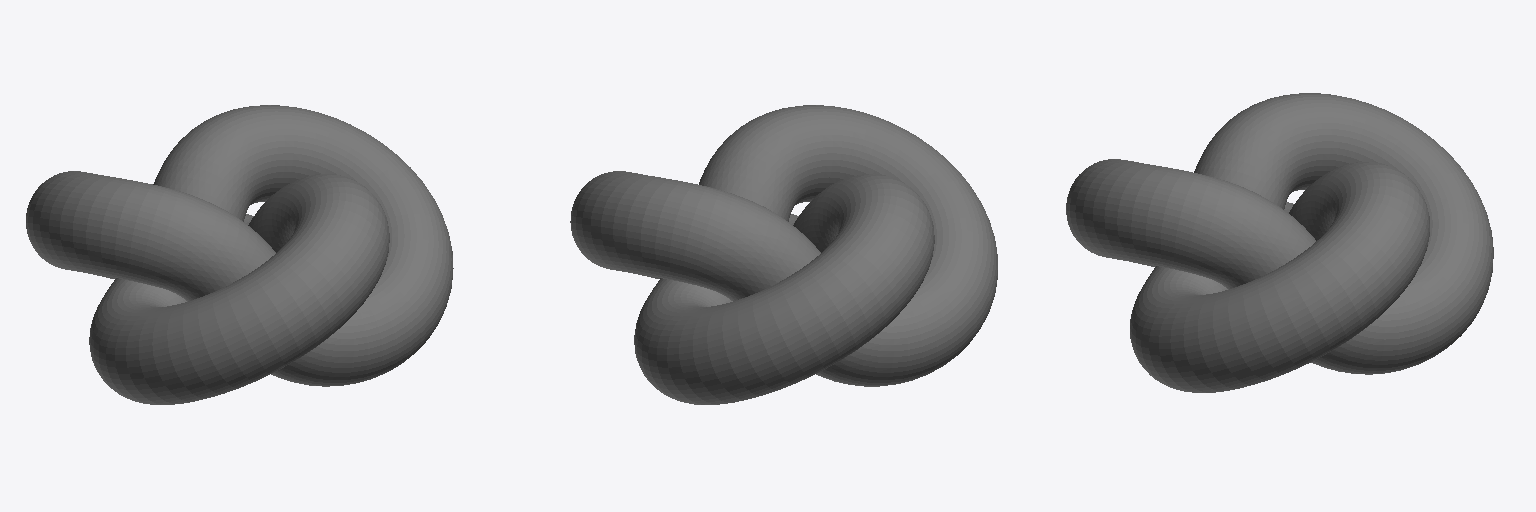
3 renders of one model, left to right at view 1: azimuth 30°, elevation 25°; view 2: azimuth 150°, elevation 25°; view 3: azimuth 270°, elevation 25°, orthographic.
Visible parts, largest first — view 1: TorusKnot; view 2: TorusKnot; view 3: TorusKnot.
Boxes of the visible parts, box(x1,y1,x2,y2) form: TorusKnot: box(26, 105, 453, 404); TorusKnot: box(570, 105, 997, 404); TorusKnot: box(1066, 93, 1493, 392).
Bounding box in the file's own units: 1.19 × 0.6216 × 1.24.